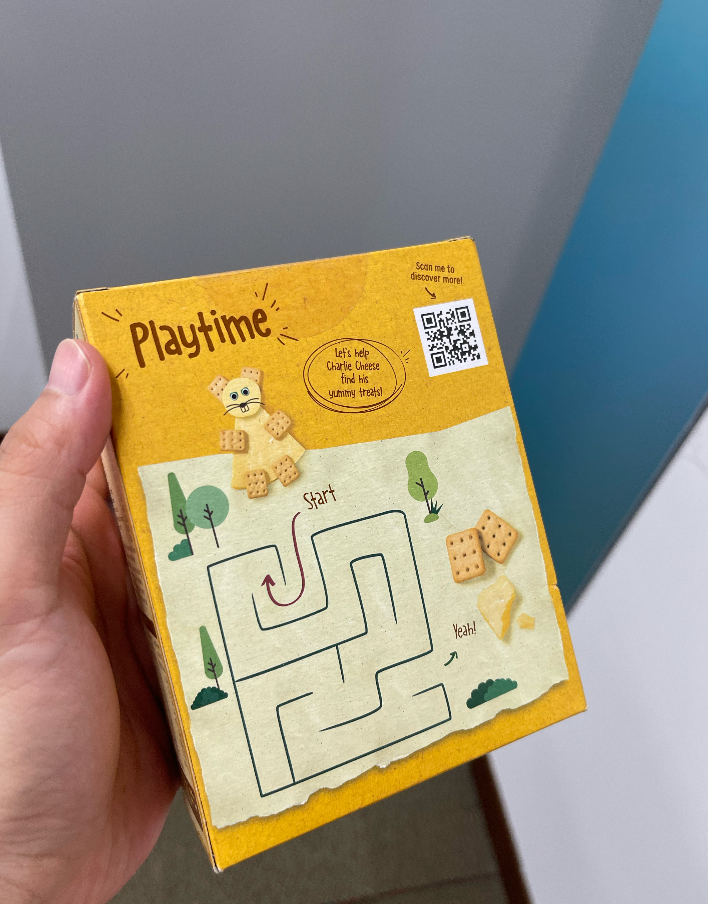crackers_1g-99g: (148, 279, 527, 750)
